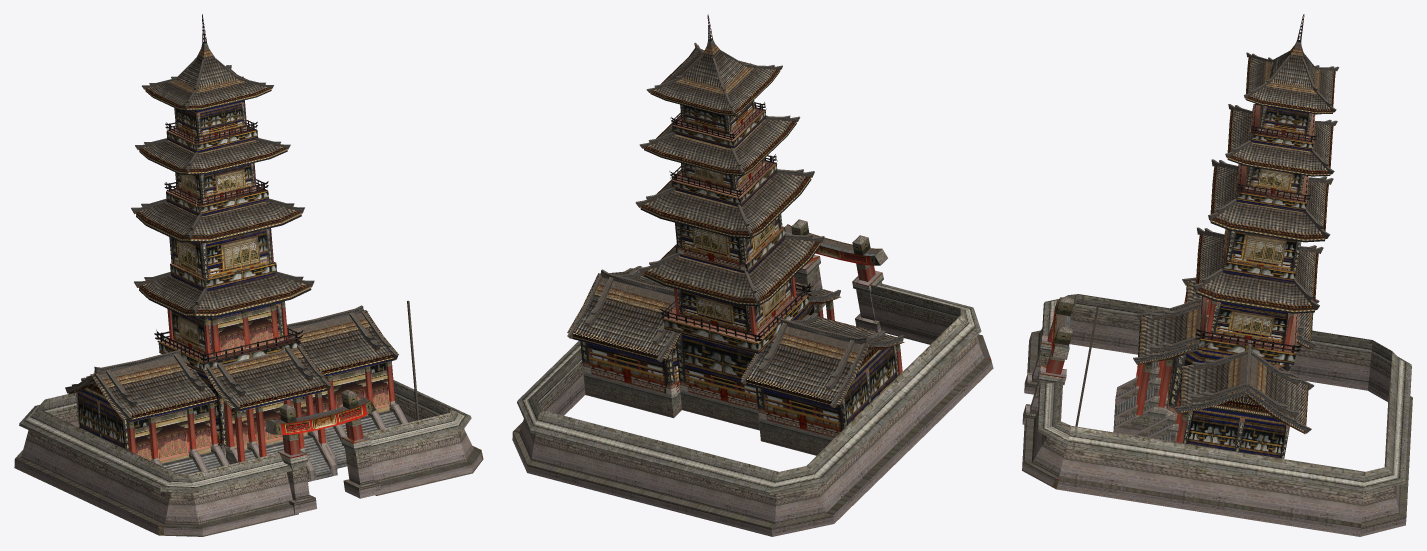
The model's file is tallbuilding.fbx.
3 views of the same model, side by side, from view 1: azimuth 30°, elevation 25°; view 2: azimuth 150°, elevation 25°; view 3: azimuth 270°, elevation 25° (orthographic).
Visible parts, largest first — view 1: Object01; view 2: Object01; view 3: Object01.
Boxes of the visible parts, <box> form: Object01: <box>14,14,483,536</box>; Object01: <box>512,14,993,536</box>; Object01: <box>1022,14,1412,536</box>.
Bounding box in the file's own units: 23.55 × 24.21 × 30.73.
Materials: 1 (1 with a texture image).
